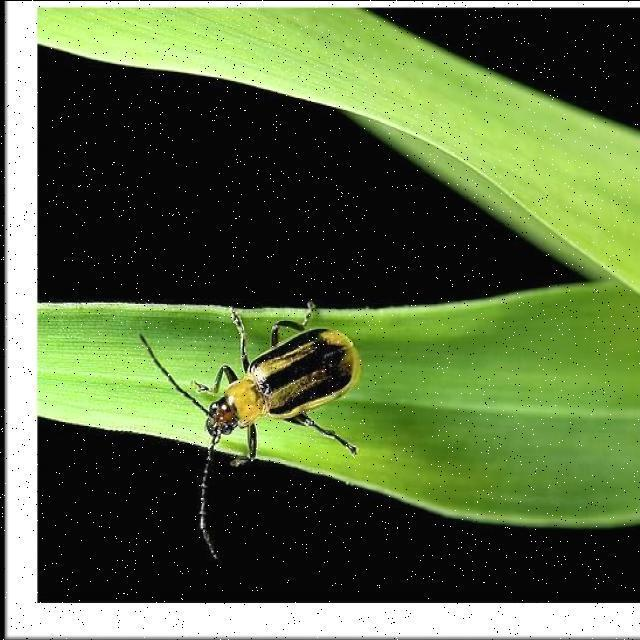trips: (140, 233, 377, 545)
